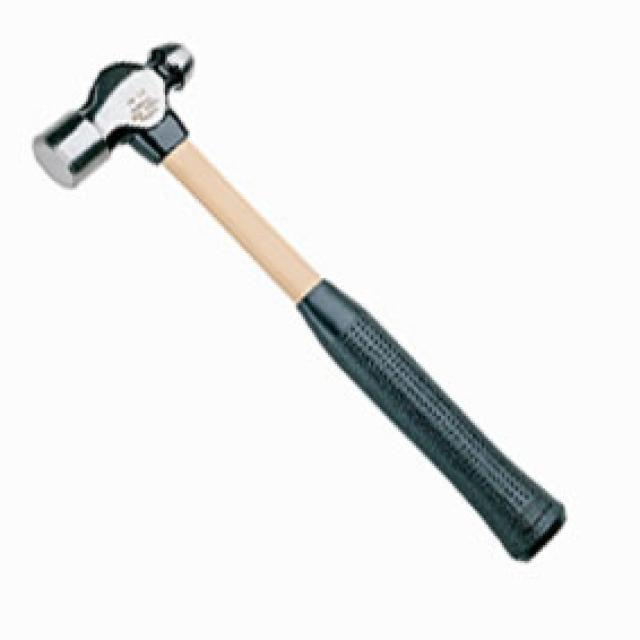hammer: (23, 31, 573, 566)
